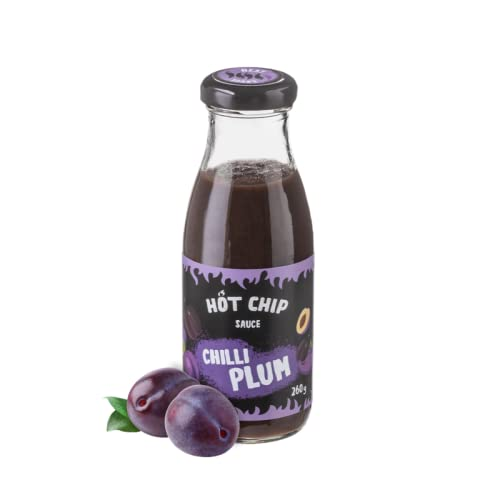WOT: (206, 291, 241, 313)
ut: (257, 356, 306, 395)
